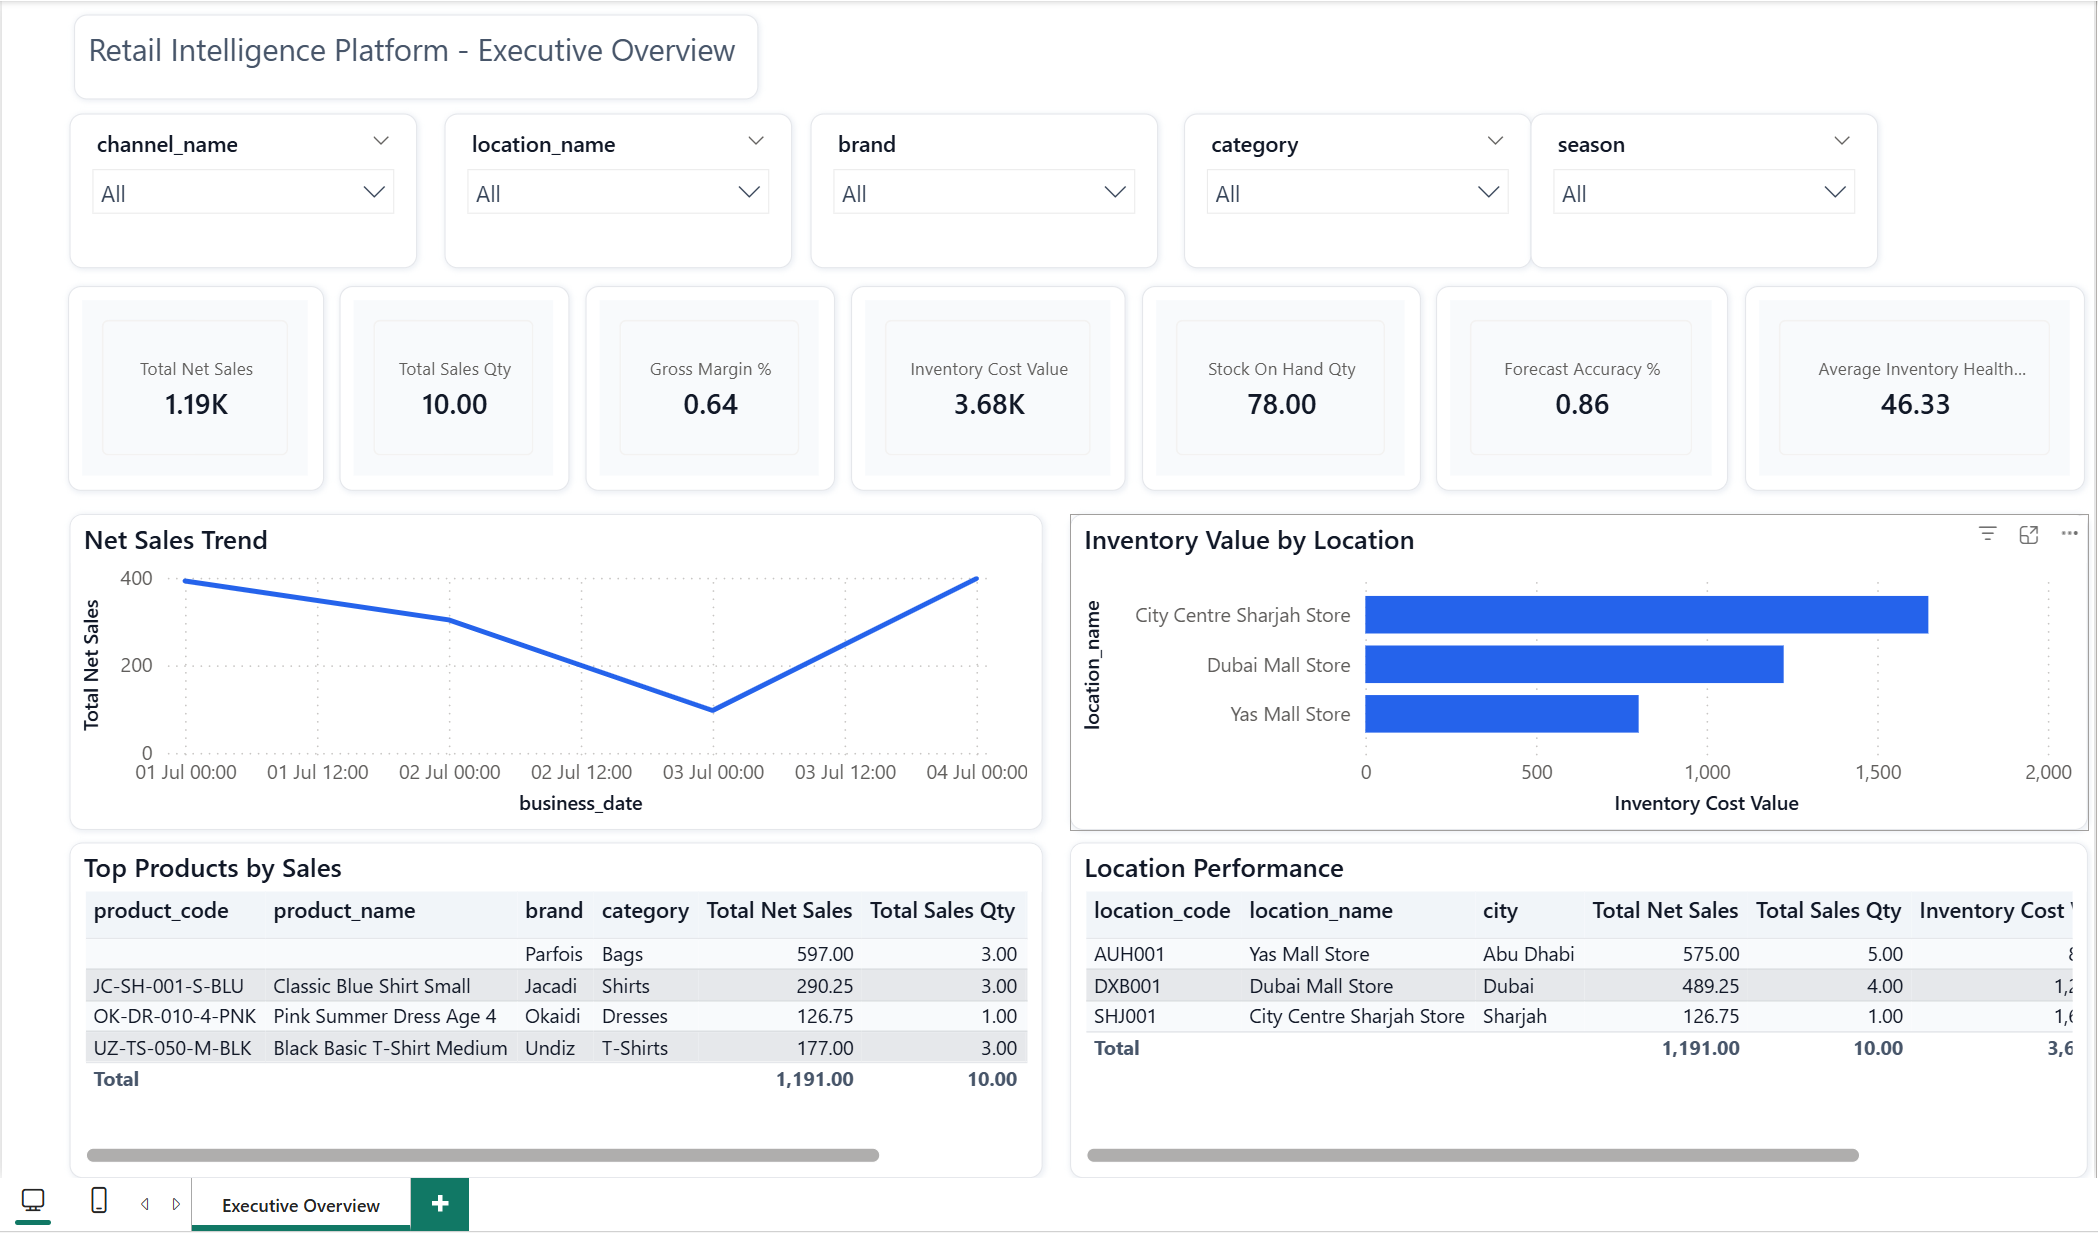

The page's visual inventory and layout, read from the dashboard file:
{"tool":"powerbi","page":{"name":"Executive Overview","canvas":[1280,720],"ordinal":0},"visuals":[{"type":"cardVisual","fields":{"Data":["Executive KPI.Total Sales Qty"]},"box":[206.4,174.8,140.9,125.1],"z":0},{"type":"cardVisual","fields":{"Data":["Executive KPI.Inventory Cost Value"]},"box":[519.4,174.8,168.2,125.1],"z":1},{"type":"cardVisual","fields":{"Data":["Executive KPI.Total Net Sales"]},"box":[40.3,174.4,156.7,125.1],"z":2},{"type":"cardVisual","fields":{"Data":["Executive KPI.Gross Margin %"]},"box":[357.1,174.8,152.5,125.1],"z":3},{"type":"cardVisual","fields":{"Data":["Executive KPI.Stock On Hand Qty"]},"box":[697.4,174.8,170.3,125.1],"z":4},{"type":"cardVisual","fields":{"Data":["Forecast Accuracy.Forecast Accuracy %"]},"box":[877.6,174.8,178.8,125.1],"z":5},{"type":"cardVisual","fields":{"Data":["Stock Optimization.Average Inventory Health Score"]},"box":[1066.5,174.4,208.2,125.1],"z":6},{"type":"lineChart","title":"Net Sales Trend","fields":{"Category":["Executive KPI.business_date"],"Y":["Executive KPI.Total Net Sales"]},"box":[41.7,313.6,595.1,193.5],"z":7},{"type":"clusteredBarChart","title":"Inventory Value by Location","fields":{"Category":["Executive KPI.location_name"],"Y":["Executive KPI.Inventory Cost Value"]},"box":[653.6,313.6,622.5,193.5],"z":8},{"type":"tableEx","title":"Top Products by Sales","fields":{"Values":["Forecast Accuracy.product_code","Forecast Accuracy.product_name","Executive KPI.brand","Executive KPI.category","Executive KPI.Total Net Sales","Executive KPI.Total Sales Qty","Executive KPI.Gross Margin %"]},"box":[41.7,514.4,595.1,205],"z":9},{"type":"tableEx","title":"Location Performance","fields":{"Values":["Executive KPI.location_code","Executive KPI.location_name","Executive KPI.city","Executive KPI.Total Net Sales","Executive KPI.Total Sales Qty","Executive KPI.Inventory Cost Value","Executive KPI.Stock On Hand Qty"]},"box":[653.6,514.4,622.5,205],"z":10},{"type":"slicer","fields":{"Values":["Executive KPI.brand"]},"box":[494.5,68.7,212.4,94.6],"z":11},{"type":"slicer","fields":{"Values":["Executive KPI.category"]},"box":[722.7,68.7,212.4,94.6],"z":12},{"type":"slicer","fields":{"Values":["Stock Optimization.season"]},"box":[935.1,68.7,212.4,94.6],"z":13},{"type":"slicer","fields":{"Values":["Executive KPI.location_name"]},"box":[270.6,68.7,212.4,94.6],"z":14},{"type":"slicer","fields":{"Values":["Forecast Accuracy.channel_name"]},"box":[41.4,68.7,212.4,94.6],"z":15},{"type":"textbox","box":[123,0,418.5,52.6],"z":16}]}

Visuals, with their boxes on the page's 1280x720 design canvas (x1, y1, x2, y2). These are canvas units, not pixel positions in the 2098x1233 screenshot, which may show the page scaled, cropped or inside an application window:
cardVisual - Executive KPI.Total Sales Qty: bbox=(206, 175, 347, 300)
cardVisual - Executive KPI.Inventory Cost Value: bbox=(519, 175, 688, 300)
cardVisual - Executive KPI.Total Net Sales: bbox=(40, 174, 197, 300)
cardVisual - Executive KPI.Gross Margin %: bbox=(357, 175, 510, 300)
cardVisual - Executive KPI.Stock On Hand Qty: bbox=(697, 175, 868, 300)
cardVisual - Forecast Accuracy.Forecast Accuracy %: bbox=(878, 175, 1056, 300)
cardVisual - Stock Optimization.Average Inventory Health Score: bbox=(1066, 174, 1275, 300)
"Net Sales Trend" lineChart: bbox=(42, 314, 637, 507)
"Inventory Value by Location" clusteredBarChart: bbox=(654, 314, 1276, 507)
"Top Products by Sales" tableEx: bbox=(42, 514, 637, 719)
"Location Performance" tableEx: bbox=(654, 514, 1276, 719)
slicer - Executive KPI.brand: bbox=(494, 69, 707, 163)
slicer - Executive KPI.category: bbox=(723, 69, 935, 163)
slicer - Stock Optimization.season: bbox=(935, 69, 1148, 163)
slicer - Executive KPI.location_name: bbox=(271, 69, 483, 163)
slicer - Forecast Accuracy.channel_name: bbox=(41, 69, 254, 163)
textbox: bbox=(123, 0, 542, 53)
